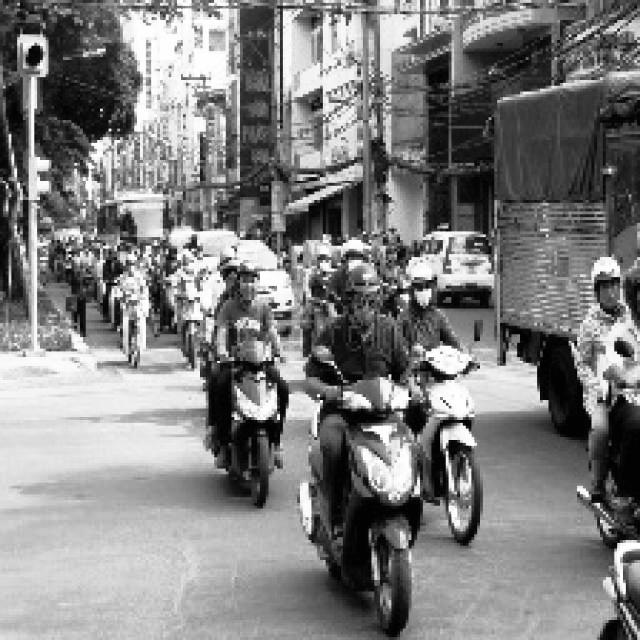Bike: (302, 377, 422, 624), (412, 329, 480, 559), (215, 322, 290, 494), (114, 270, 152, 376)
